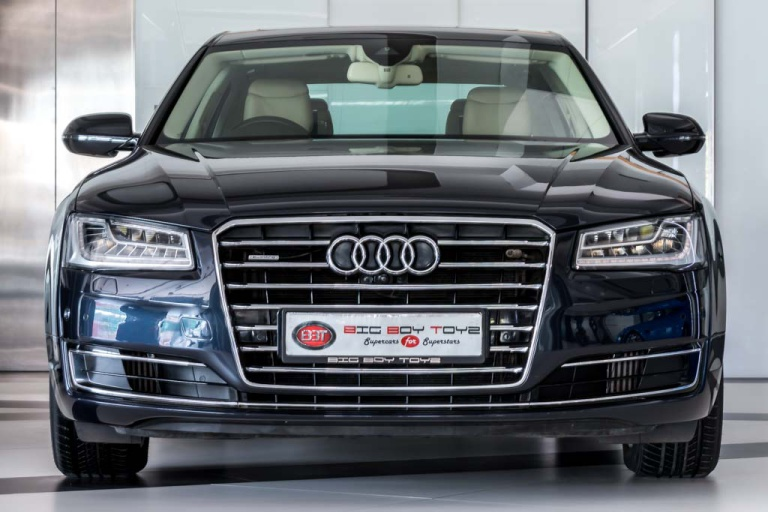audi: (318, 232, 444, 278)
